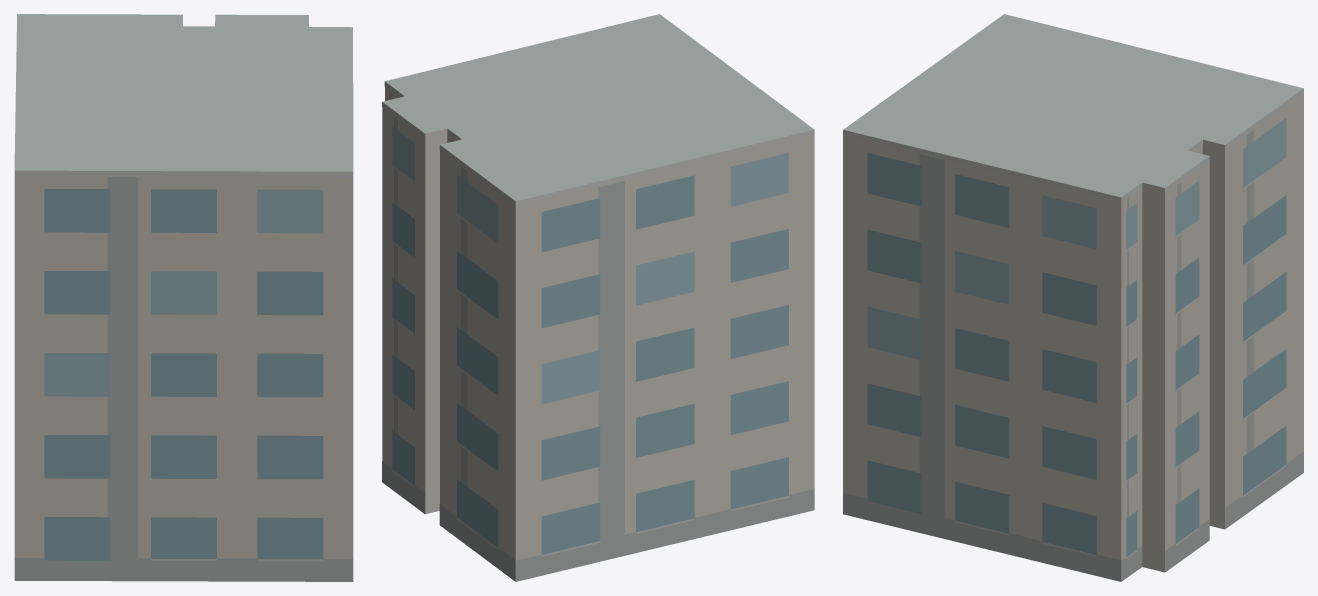
Rendered from survey-upis-32706623.glb.
3 views of the same model, side by side, from view 1: azimuth 30°, elevation 25°; view 2: azimuth 150°, elevation 25°; view 3: azimuth 270°, elevation 25° (orthographic). The views are drawn at different scales.
Parts seen in each view (by area): view 1: survey-upis-32706623.tmp; view 2: survey-upis-32706623.tmp; view 3: survey-upis-32706623.tmp.
Boxes of the visible parts, x1,y1,x2,y2 form: survey-upis-32706623.tmp: [14, 14, 353, 581]; survey-upis-32706623.tmp: [382, 14, 814, 581]; survey-upis-32706623.tmp: [843, 14, 1303, 581].
Size of the model in its own units: 16.79 by 16.4 by 17.82.
